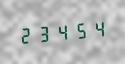five: (72, 19, 89, 41)
four: (54, 20, 71, 43), (90, 17, 107, 40)
three: (36, 22, 53, 44)
two: (18, 23, 35, 46)
